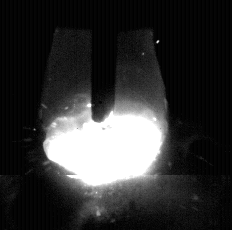arame: (92, 0, 116, 121)
poca: (43, 0, 166, 230)
